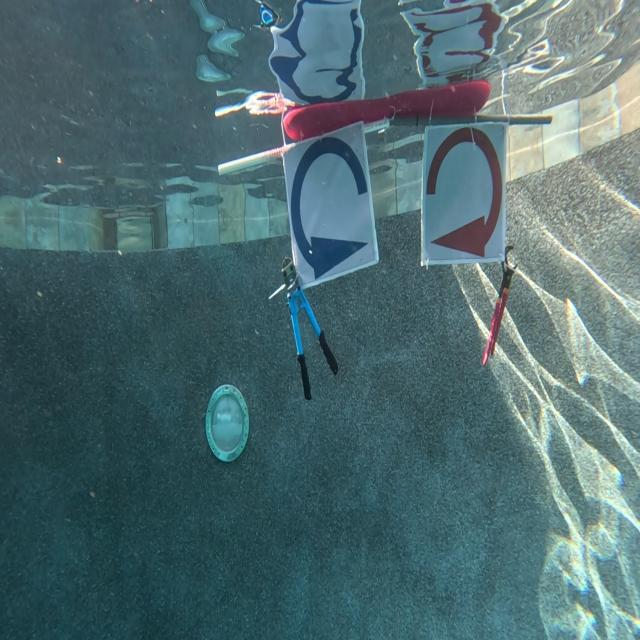blue_side: (285, 129, 375, 278)
red_side: (424, 126, 502, 258)
